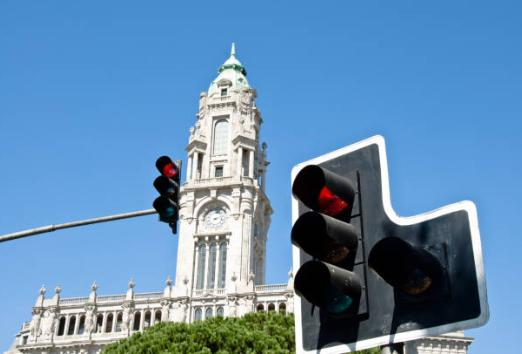red_light: (290, 133, 490, 354), (153, 156, 183, 223)
